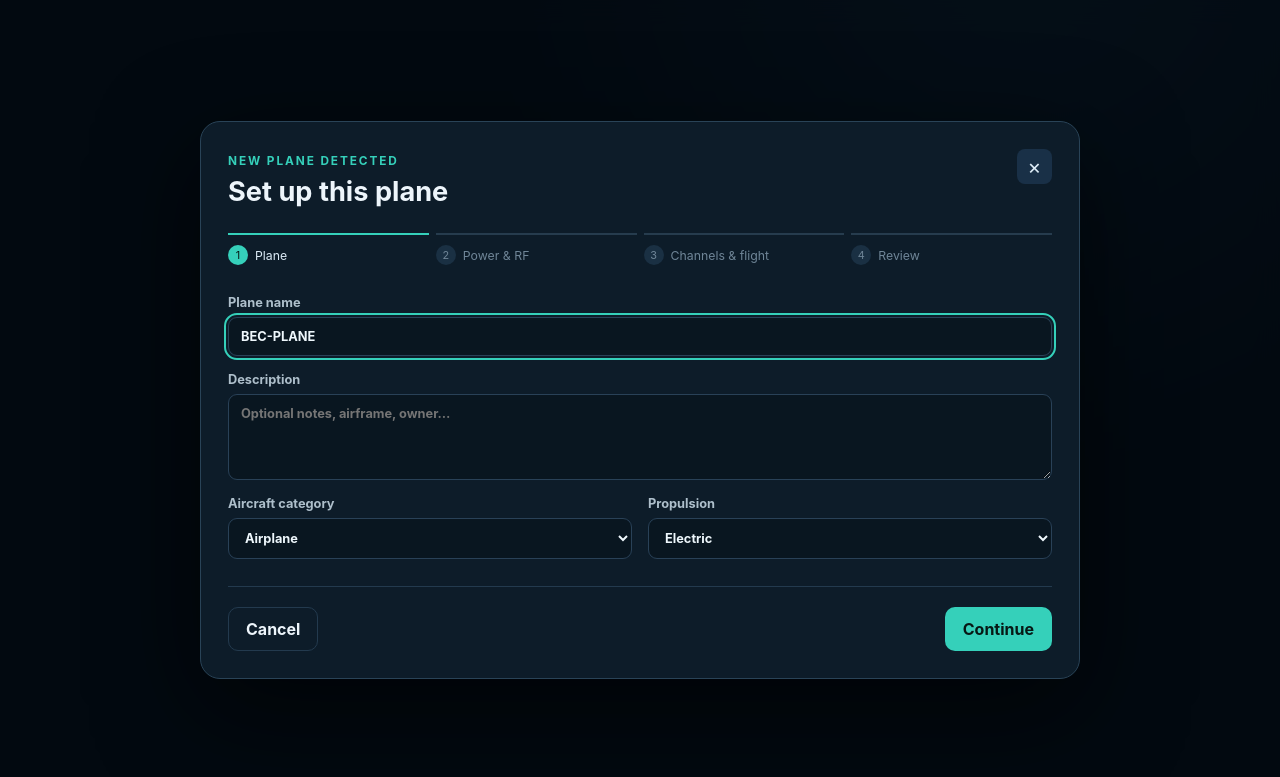
Test: new plane wizard › offers BEC-specific receiver power settings
Click the button "Continue" at {"x": 998, "y": 629}, box [945,607,1052,651]
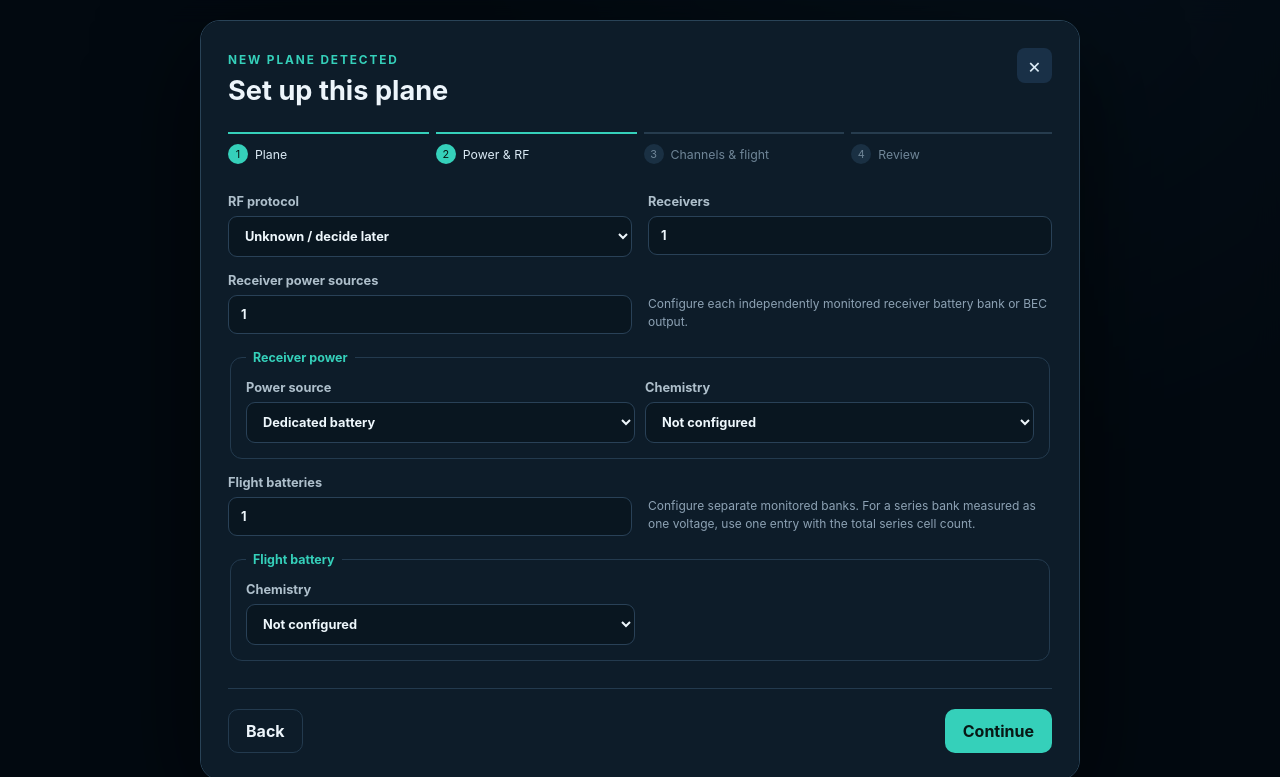
Select "BEC" in the dropdown labelled "Power source" at {"x": 440, "y": 422}, box [246,402,635,443]
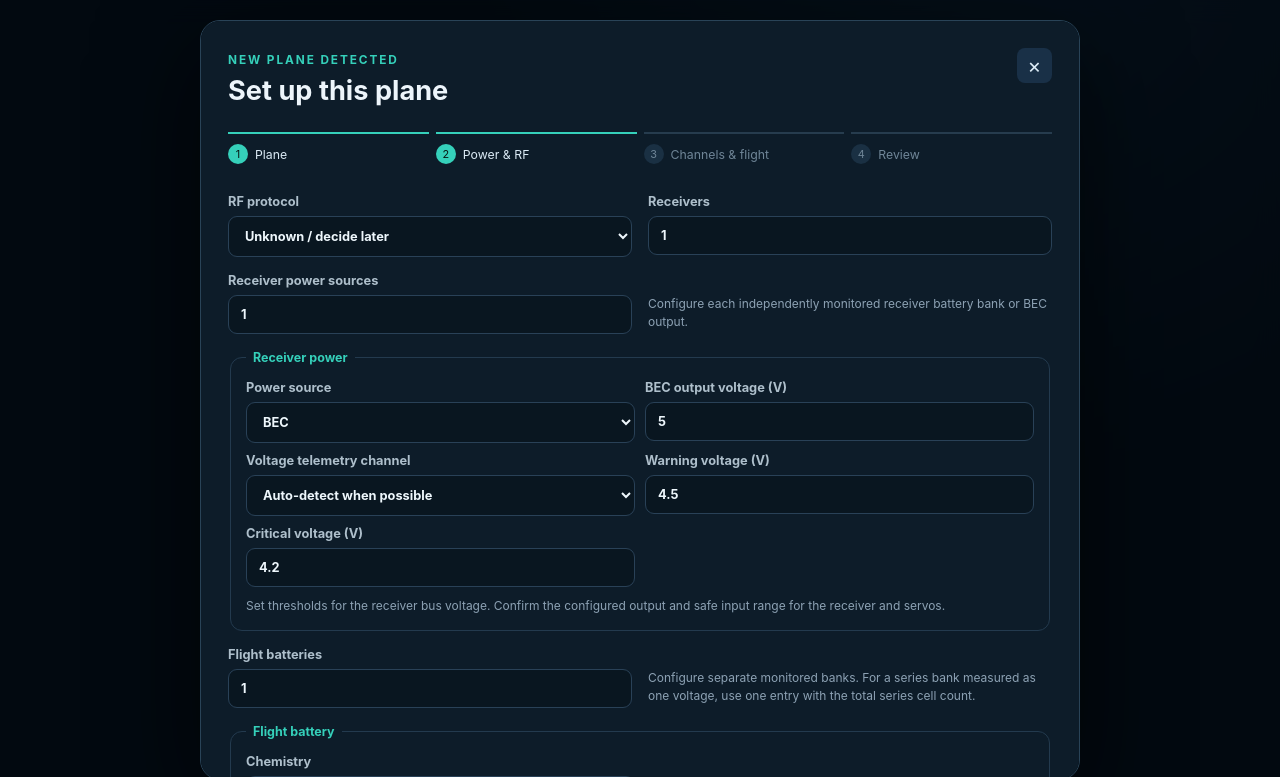
Expected: the number field labelled "BEC output voltage (V)" holds "5", [645,402,1034,441]
Expected: the number field labelled "Warning voltage (V)" holds "4.5", [645,475,1034,514]
Expected: the number field labelled "Critical voltage (V)" holds "4.2", [246,548,635,587]
